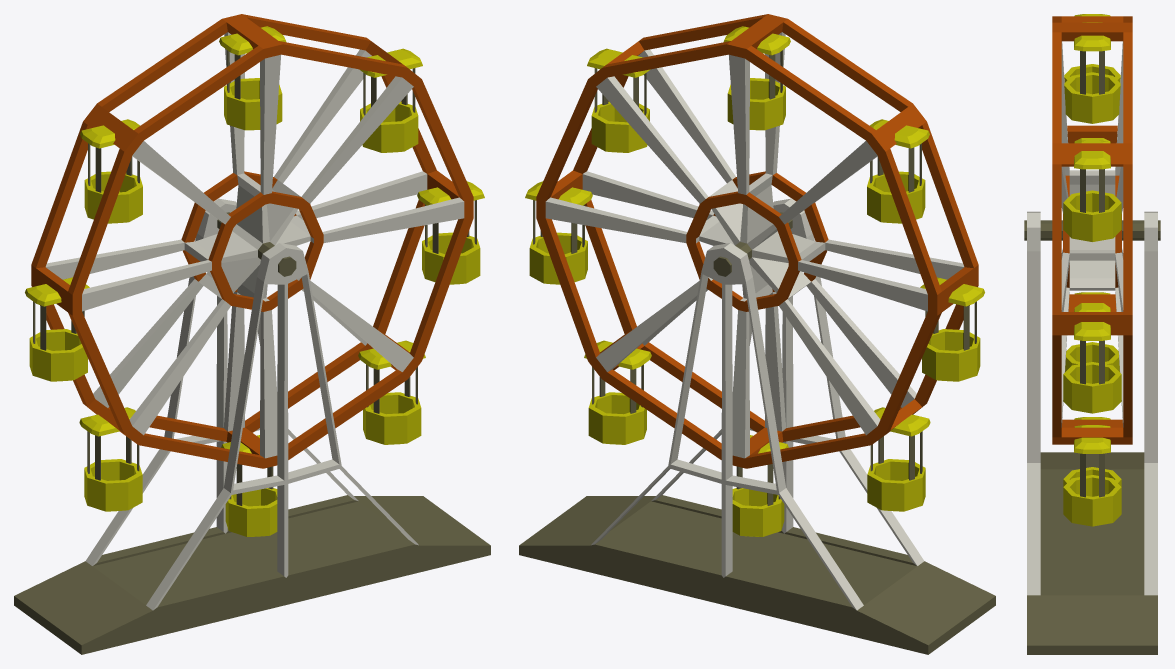
File: Carrusel.fbx
The picture shows the model from 3 angles, left to right: view 1: azimuth 30°, elevation 25°; view 2: azimuth 150°, elevation 25°; view 3: azimuth 270°, elevation 25°; orthographic projection. The views are drawn at different scales.
Visible parts, largest first — view 1: Ferris_Wheel_01; view 2: Ferris_Wheel_01; view 3: Ferris_Wheel_01.
Part boxes in pixels (x1,y1,x2,y2): Ferris_Wheel_01: [14, 14, 490, 654]; Ferris_Wheel_01: [519, 14, 995, 654]; Ferris_Wheel_01: [1024, 14, 1160, 654].
Bounding box in the file's own units: 1091 × 1281 × 299.
